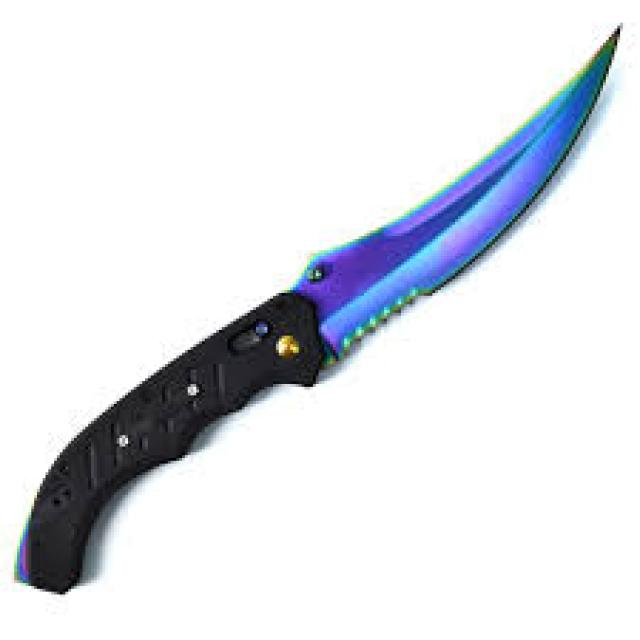knife: (13, 13, 633, 602)
